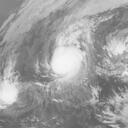cyclone: (49, 45, 86, 80)
